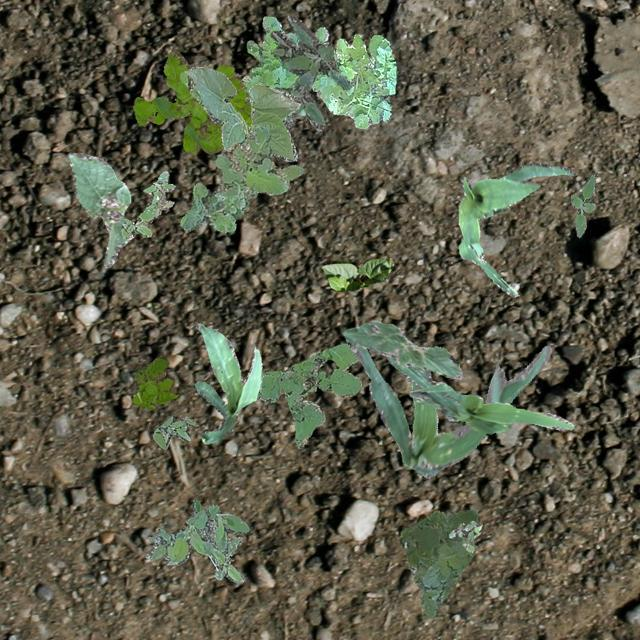crop: (345, 318, 551, 478), (458, 160, 572, 296), (384, 354, 572, 434), (178, 66, 300, 160), (193, 322, 260, 442), (68, 152, 132, 266), (342, 321, 462, 378), (321, 256, 392, 290)
weed: (240, 16, 394, 128), (180, 124, 302, 230), (132, 49, 252, 152), (256, 342, 360, 448), (270, 14, 350, 130), (144, 498, 248, 582), (398, 508, 478, 616), (120, 170, 174, 237), (132, 356, 178, 408), (570, 174, 594, 236), (152, 414, 194, 448), (448, 520, 482, 552)
